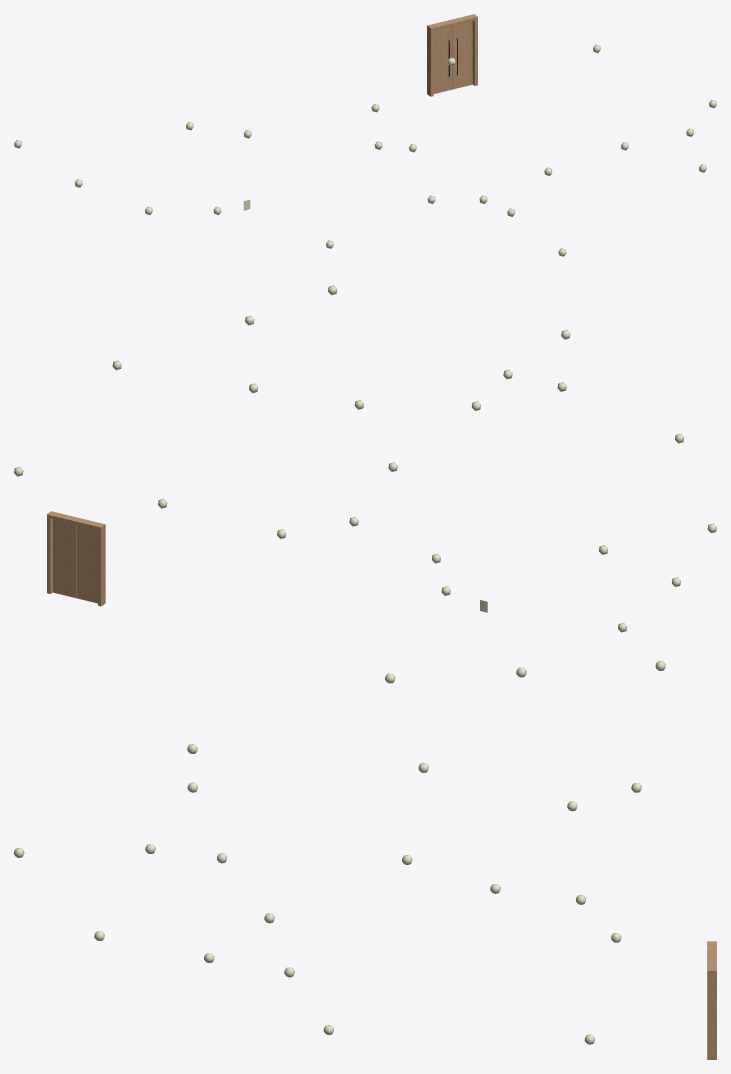
The picture shows the model from 3 angles, top to bottom: view 1: azimuth 30°, elevation 25°; view 2: azimuth 150°, elevation 25°; view 3: azimuth 270°, elevation 25°; orthographic projection. The views are drawn at different scales.
Visible parts, largest first — view 1: Group005; view 2: Group005; view 3: Group005.
Boxes of the visible parts, x1,y1,x2,y2 form: Group005: (427, 14, 477, 96); Group005: (47, 511, 105, 606); Group005: (707, 941, 716, 1059).
Size of the model in its own units: 861 by 135 by 705.
